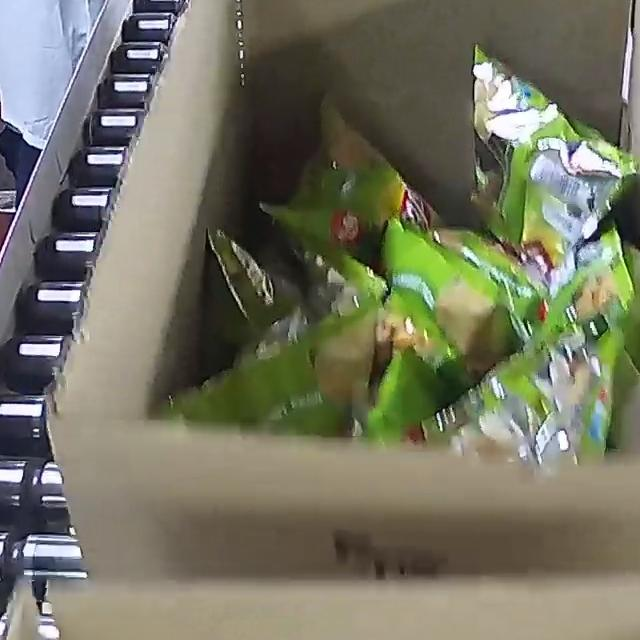yogurt: (153, 43, 640, 471)
